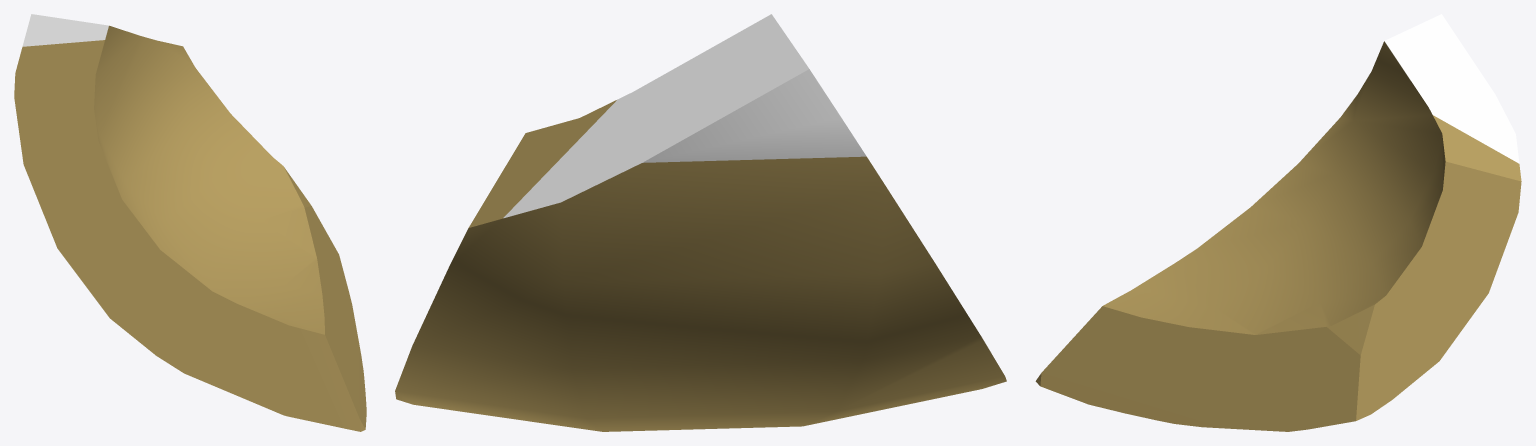
Rendered from broken_pot_cell_017.fbx.
3 views of the same model, side by side, from view 1: azimuth 30°, elevation 25°; view 2: azimuth 150°, elevation 25°; view 3: azimuth 270°, elevation 25° (orthographic). The views are drawn at different scales.
Visible parts, largest first — view 1: broken_pot_cell.017; view 2: broken_pot_cell.017; view 3: broken_pot_cell.017.
Part boxes in pixels (x1,y1,x2,y2): broken_pot_cell.017: (14, 14, 366, 431); broken_pot_cell.017: (395, 14, 1006, 431); broken_pot_cell.017: (1035, 14, 1521, 431).
Size of the model in its own units: 0.8651 by 0.8429 by 1.19.
